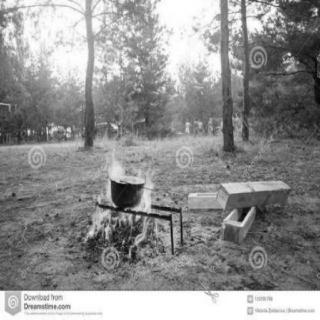Fire: (72, 118, 174, 256)
